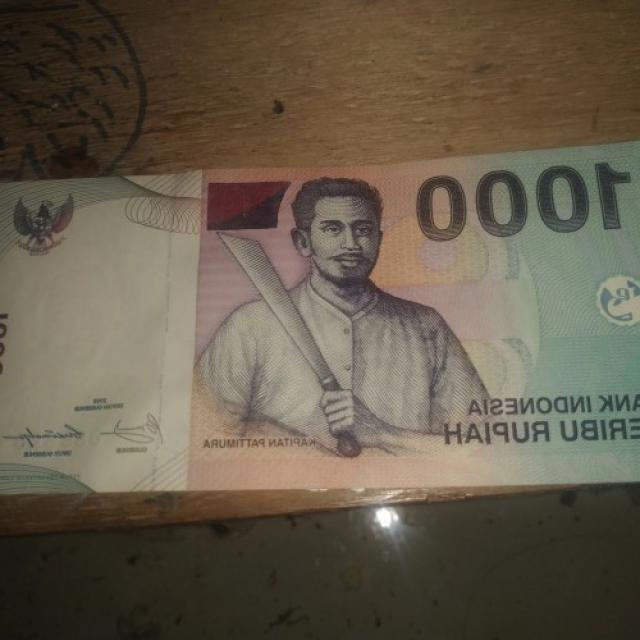seribu rupiah: (0, 142, 640, 498)
